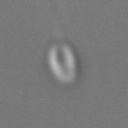normal: (35, 1, 78, 38)
